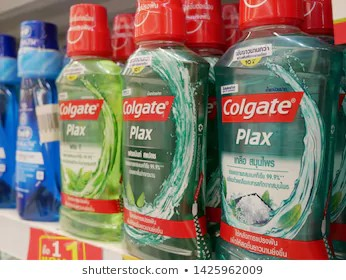colgate-Plax: (213, 1, 324, 258), (121, 1, 213, 257), (56, 1, 120, 243)
